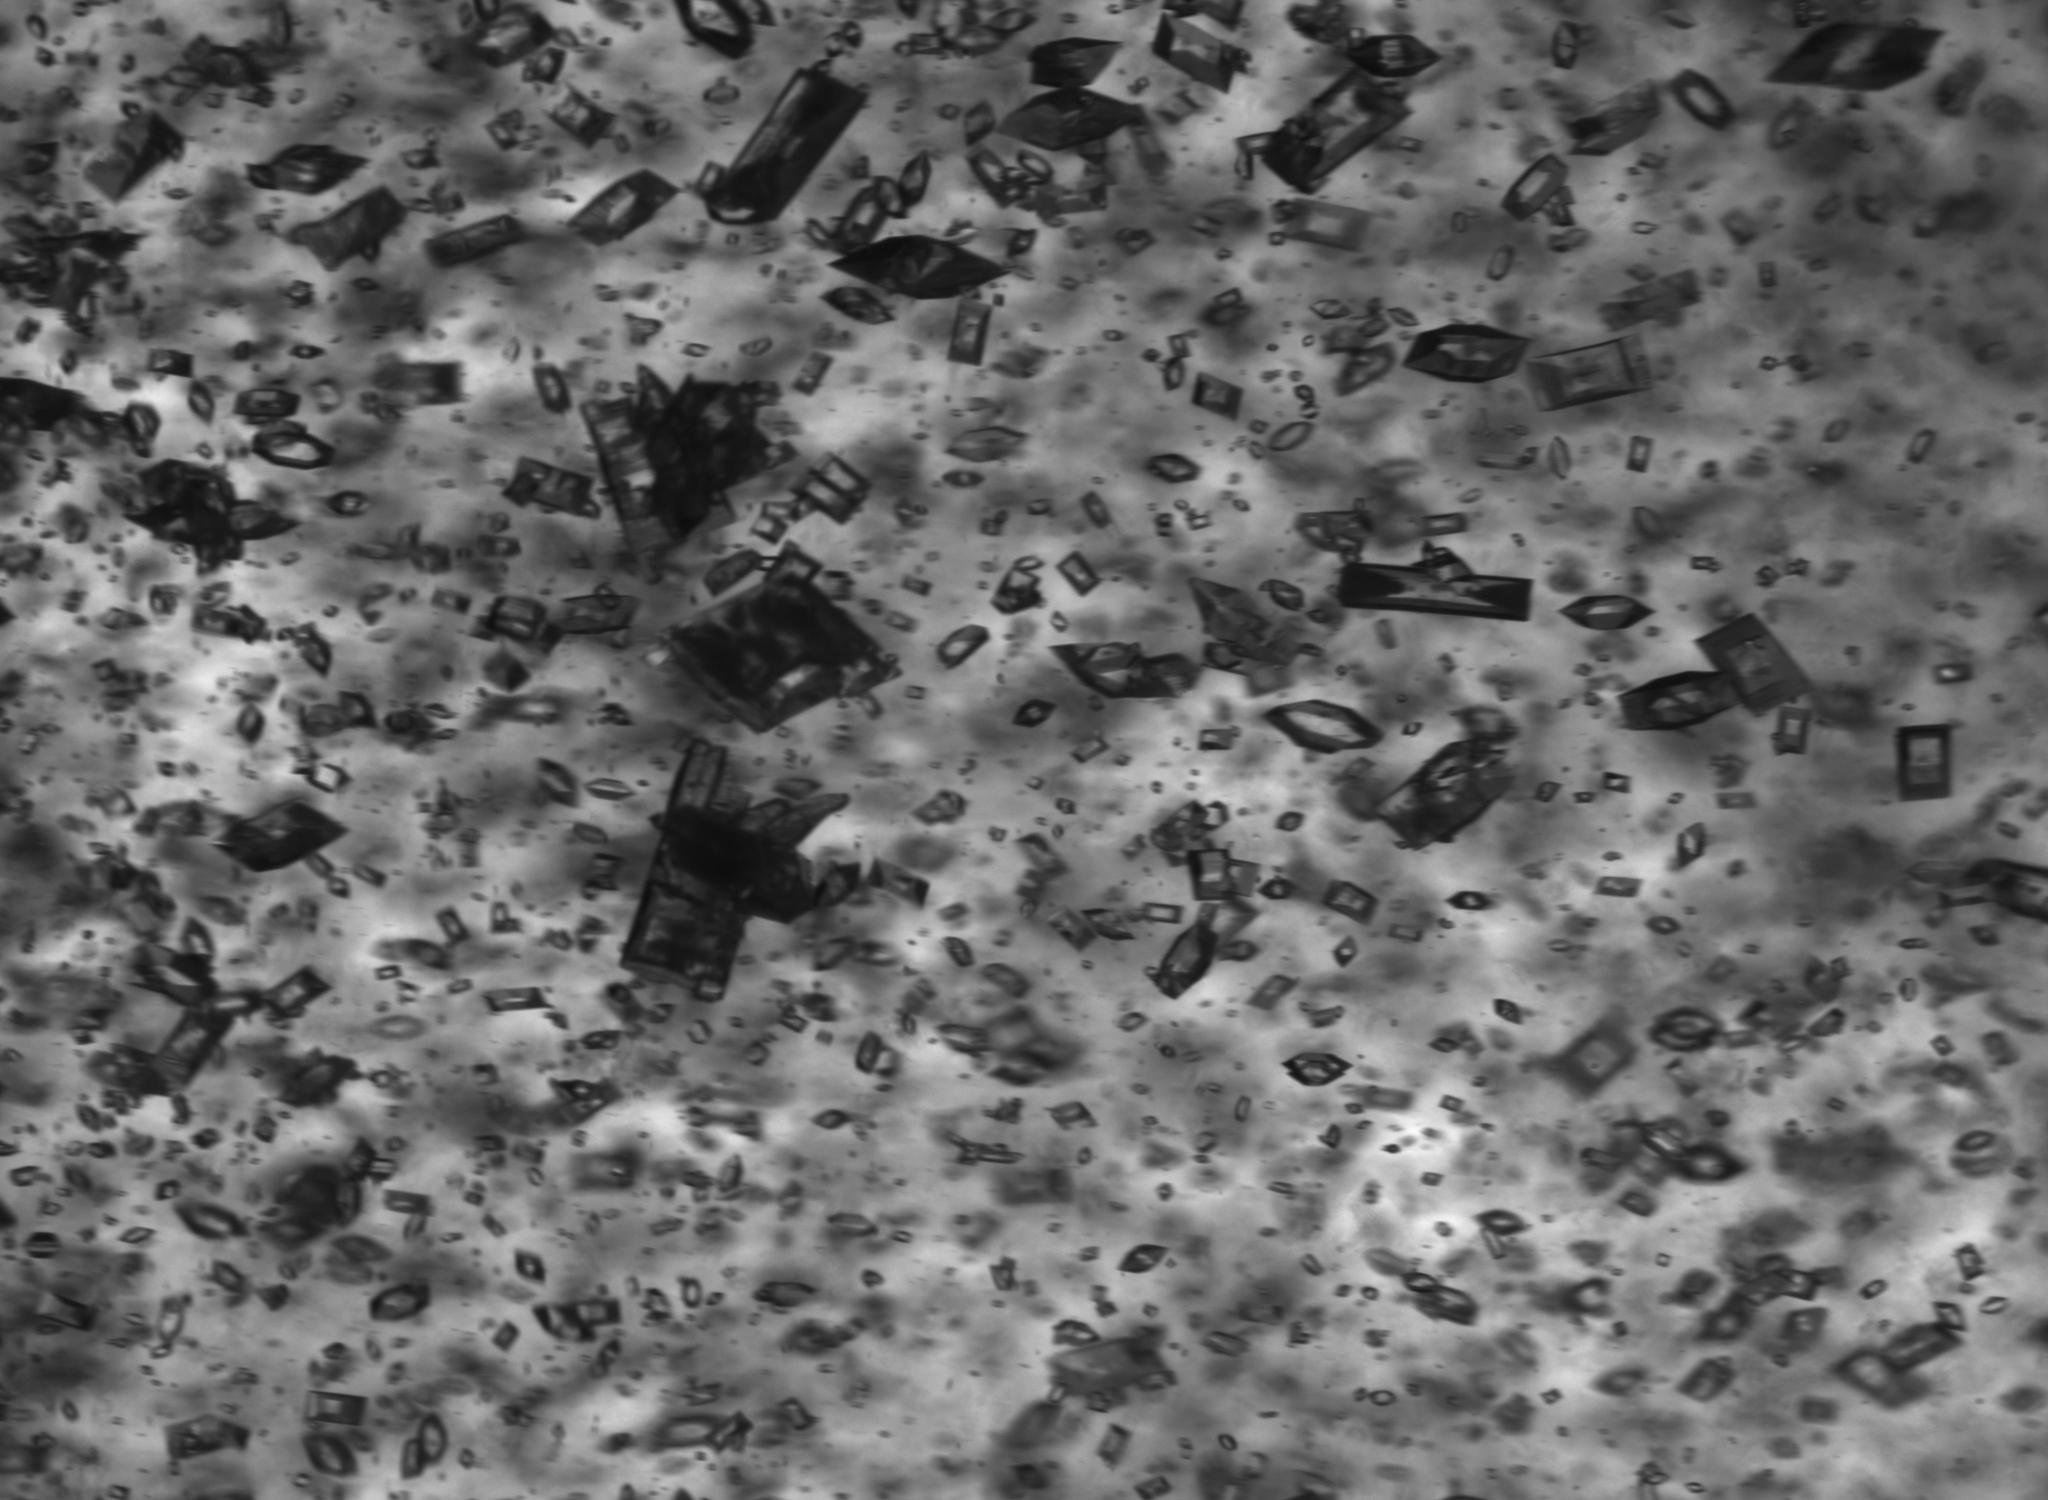crystal: (620, 744, 844, 999), (580, 369, 773, 557), (665, 576, 894, 732), (706, 68, 870, 226), (1620, 616, 1813, 730), (1258, 67, 1414, 196), (126, 460, 291, 566), (1374, 735, 1514, 848), (1337, 542, 1531, 620), (1768, 19, 1940, 95), (1188, 577, 1317, 678), (832, 235, 1007, 301), (0, 229, 138, 309), (286, 186, 407, 269), (997, 86, 1143, 151), (1526, 336, 1654, 410), (218, 800, 345, 873), (86, 108, 184, 200), (1053, 641, 1205, 700), (568, 170, 677, 243), (1404, 324, 1530, 383), (1043, 1338, 1169, 1397), (1150, 13, 1237, 94), (1264, 700, 1382, 752), (248, 145, 366, 196), (156, 1008, 232, 1086), (536, 80, 617, 153), (504, 458, 601, 519), (1600, 272, 1701, 329), (130, 945, 218, 1010), (428, 215, 529, 267), (466, 5, 552, 67), (1154, 918, 1220, 999), (1499, 151, 1568, 224), (1666, 65, 1738, 130), (1030, 37, 1121, 87), (1565, 105, 1652, 157), (0, 375, 81, 431), (1876, 1323, 1964, 1374), (1895, 724, 1953, 800), (827, 186, 889, 256), (472, 597, 560, 646), (1342, 35, 1442, 78), (165, 1414, 250, 1465), (278, 1055, 355, 1109), (261, 967, 331, 1026), (1296, 202, 1371, 256), (789, 468, 859, 525), (531, 1296, 620, 1341), (372, 363, 460, 406), (253, 423, 332, 469), (863, 856, 930, 910), (557, 593, 642, 635), (194, 46, 277, 89), (758, 542, 825, 595), (1647, 1007, 1722, 1053), (1150, 800, 1212, 854), (110, 1042, 172, 1096), (1553, 597, 1654, 630), (135, 795, 210, 840), (948, 294, 994, 366), (173, 1198, 246, 1241), (1035, 173, 1108, 216), (1735, 997, 1805, 1042), (701, 547, 762, 598), (946, 425, 1026, 463), (1013, 832, 1072, 883), (1318, 880, 1380, 927), (820, 286, 894, 326), (33, 1288, 100, 1330), (1045, 903, 1099, 953), (1730, 1271, 1798, 1309), (973, 150, 1026, 199), (816, 457, 871, 503), (1191, 372, 1243, 420), (703, 1409, 755, 1457), (991, 568, 1043, 616), (235, 387, 301, 425), (1188, 849, 1235, 900), (935, 624, 989, 668), (95, 665, 149, 709), (1328, 315, 1388, 355), (1455, 706, 1523, 741), (304, 1433, 356, 1478), (305, 1390, 369, 1427), (369, 1282, 429, 1320), (1000, 1171, 1069, 1204), (811, 862, 860, 908), (1283, 1053, 1350, 1086), (1057, 550, 1102, 598), (483, 651, 534, 690), (1935, 878, 1999, 910), (1668, 822, 1708, 872), (1245, 973, 1296, 1012), (1821, 687, 1873, 724), (191, 603, 245, 638), (1641, 1125, 1692, 1161), (1080, 907, 1135, 940), (910, 791, 965, 824), (1768, 107, 1811, 150), (1216, 856, 1261, 897), (1806, 958, 1849, 999), (933, 1023, 995, 1051), (983, 962, 1035, 996), (1681, 1368, 1733, 1401), (480, 986, 549, 1012), (1776, 705, 1811, 754), (790, 1323, 844, 1355), (1663, 1058, 1703, 1101), (1145, 453, 1200, 484), (797, 353, 836, 394), (1318, 511, 1375, 539), (1905, 861, 1973, 884), (1263, 420, 1313, 452), (754, 1282, 817, 1308), (299, 705, 350, 736), (539, 366, 574, 412), (902, 151, 932, 204), (537, 762, 577, 802), (488, 110, 526, 151), (1119, 1244, 1170, 1274), (960, 1142, 1024, 1166), (121, 404, 161, 442), (875, 177, 910, 220), (339, 690, 377, 729), (342, 1136, 377, 1177), (983, 6, 1035, 33), (825, 1210, 878, 1238), (1553, 19, 1582, 68), (1779, 1268, 1821, 1301), (1097, 1422, 1131, 1463), (412, 542, 453, 576), (382, 1190, 432, 1217), (582, 776, 636, 802), (1202, 1331, 1250, 1360), (156, 1296, 184, 1344), (1011, 697, 1056, 727), (436, 907, 471, 945), (299, 638, 332, 678), (1080, 490, 1113, 530), (148, 350, 194, 379), (1784, 1306, 1825, 1338), (1053, 1320, 1100, 1347), (420, 1414, 447, 1462), (585, 854, 622, 889), (1953, 1244, 1988, 1280), (819, 935, 857, 969), (1727, 208, 1760, 247), (1633, 507, 1666, 546), (531, 46, 564, 84), (1070, 733, 1110, 765), (1806, 1007, 1846, 1039), (410, 940, 452, 970), (305, 762, 348, 791), (693, 161, 725, 199), (1929, 662, 1976, 687), (1237, 1301, 1285, 1327), (328, 490, 372, 517), (967, 103, 997, 143), (1476, 1210, 1525, 1234), (1269, 579, 1304, 612), (1367, 1088, 1415, 1112), (162, 65, 210, 89), (22, 1231, 62, 1260), (239, 703, 266, 744), (235, 81, 277, 108), (1018, 150, 1053, 181), (1046, 1101, 1092, 1125), (1593, 875, 1643, 897), (1235, 130, 1278, 156), (1487, 243, 1515, 282), (375, 1015, 428, 1036), (774, 778, 822, 800), (751, 515, 785, 546), (213, 1258, 243, 1293), (254, 1284, 289, 1314), (716, 1153, 743, 1191), (1196, 727, 1239, 751), (855, 1036, 881, 1075), (431, 589, 471, 614), (1908, 429, 1938, 463), (491, 1319, 522, 1352), (1186, 212, 1223, 239), (824, 569, 855, 600), (644, 1287, 673, 1320), (1140, 902, 1183, 924), (1305, 299, 1352, 320), (97, 791, 137, 814), (351, 862, 386, 889), (577, 1029, 622, 1050), (785, 1398, 816, 1428), (1200, 802, 1231, 832), (1660, 6, 1698, 30), (1449, 891, 1491, 911), (194, 224, 237, 245), (1550, 436, 1571, 479), (1716, 791, 1759, 811), (189, 383, 213, 420), (1008, 229, 1037, 259), (517, 1252, 545, 1282), (1480, 1228, 1507, 1260), (1428, 514, 1469, 534), (482, 536, 523, 557), (402, 1438, 423, 1479), (1628, 437, 1654, 471), (992, 1257, 1018, 1290), (1161, 99, 1200, 119), (1722, 1029, 1762, 1050), (304, 851, 334, 878), (1261, 878, 1297, 900), (908, 32, 944, 54), (401, 148, 439, 169), (1935, 1303, 1964, 1330), (684, 1018, 712, 1045), (948, 937, 973, 967), (943, 471, 984, 488), (1620, 1193, 1655, 1214), (1402, 1273, 1437, 1293), (1213, 286, 1243, 310), (902, 574, 932, 598), (1387, 307, 1420, 328), (626, 317, 660, 337), (1277, 810, 1304, 835), (1549, 202, 1576, 227), (191, 1128, 219, 1152), (363, 1158, 398, 1177), (1968, 926, 2000, 946), (10, 1166, 41, 1187), (738, 337, 770, 358), (1603, 771, 1630, 795), (253, 1117, 277, 1144), (887, 611, 921, 630), (816, 1110, 849, 1129), (1388, 924, 1428, 940), (1138, 1479, 1173, 1497), (119, 1226, 154, 1244), (765, 499, 797, 519), (703, 86, 741, 102), (288, 278, 313, 302), (822, 32, 844, 59), (1428, 1036, 1461, 1053), (1776, 1036, 1809, 1053), (1166, 356, 1183, 390), (778, 1013, 808, 1032), (1498, 1001, 1523, 1023), (1538, 779, 1563, 802), (1312, 1007, 1337, 1029), (647, 1004, 674, 1024), (685, 1277, 704, 1306), (1337, 937, 1356, 966), (326, 875, 348, 899), (1234, 153, 1253, 180), (843, 21, 862, 48), (1119, 1013, 1148, 1031), (1980, 1296, 2008, 1314), (291, 344, 326, 358), (1301, 1253, 1323, 1276), (1396, 135, 1422, 154), (477, 1136, 507, 1152), (1649, 918, 1678, 934), (682, 342, 711, 358), (425, 703, 453, 719), (1186, 514, 1212, 531), (1014, 555, 1045, 569), (1763, 259, 1779, 286), (1693, 557, 1720, 573), (375, 964, 402, 980), (1049, 611, 1069, 633), (1862, 1280, 1884, 1300), (157, 1179, 176, 1201), (1932, 1036, 1956, 1053), (1439, 1096, 1463, 1113), (1784, 558, 1809, 574), (1027, 499, 1053, 515), (1170, 336, 1189, 356), (1022, 775, 1046, 791), (1294, 383, 1313, 402), (1643, 1471, 1668, 1486), (1267, 1180, 1293, 1195), (1054, 797, 1075, 814), (1520, 447, 1541, 464), (1825, 1096, 1848, 1112), (1902, 978, 1916, 1002), (38, 1201, 62, 1215), (1899, 937, 1929, 948), (1301, 402, 1320, 420), (892, 1230, 913, 1245), (905, 684, 925, 700), (1541, 1389, 1561, 1405), (1235, 1094, 1248, 1120), (1633, 221, 1658, 234), (1371, 1392, 1399, 1403), (1420, 1172, 1444, 1185), (1218, 1435, 1235, 1451), (1760, 356, 1778, 372), (1612, 1320, 1628, 1338), (1091, 1285, 1107, 1303), (1401, 722, 1422, 735), (1576, 791, 1596, 803), (1654, 1253, 1671, 1268), (1666, 792, 1685, 805), (1361, 1287, 1379, 1300), (1684, 1483, 1705, 1492), (1232, 499, 1250, 511), (1345, 1104, 1363, 1115), (1270, 232, 1285, 245), (1302, 334, 1313, 347), (54, 1188, 72, 1196), (1356, 1120, 1371, 1129)
